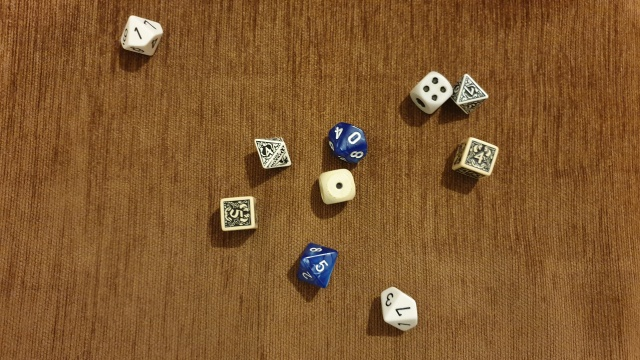d10-1: (114, 12, 169, 61)
d10-10: (323, 121, 373, 168)
d10-5: (293, 236, 341, 292)
d10-7: (373, 281, 417, 336)
d6-1: (312, 165, 361, 207)
d6-4: (404, 64, 454, 114)
d6p-4: (444, 136, 501, 182)
d6p-5: (216, 194, 263, 236)
d8p-4: (253, 133, 295, 178)
d8p-7: (450, 69, 489, 119)
